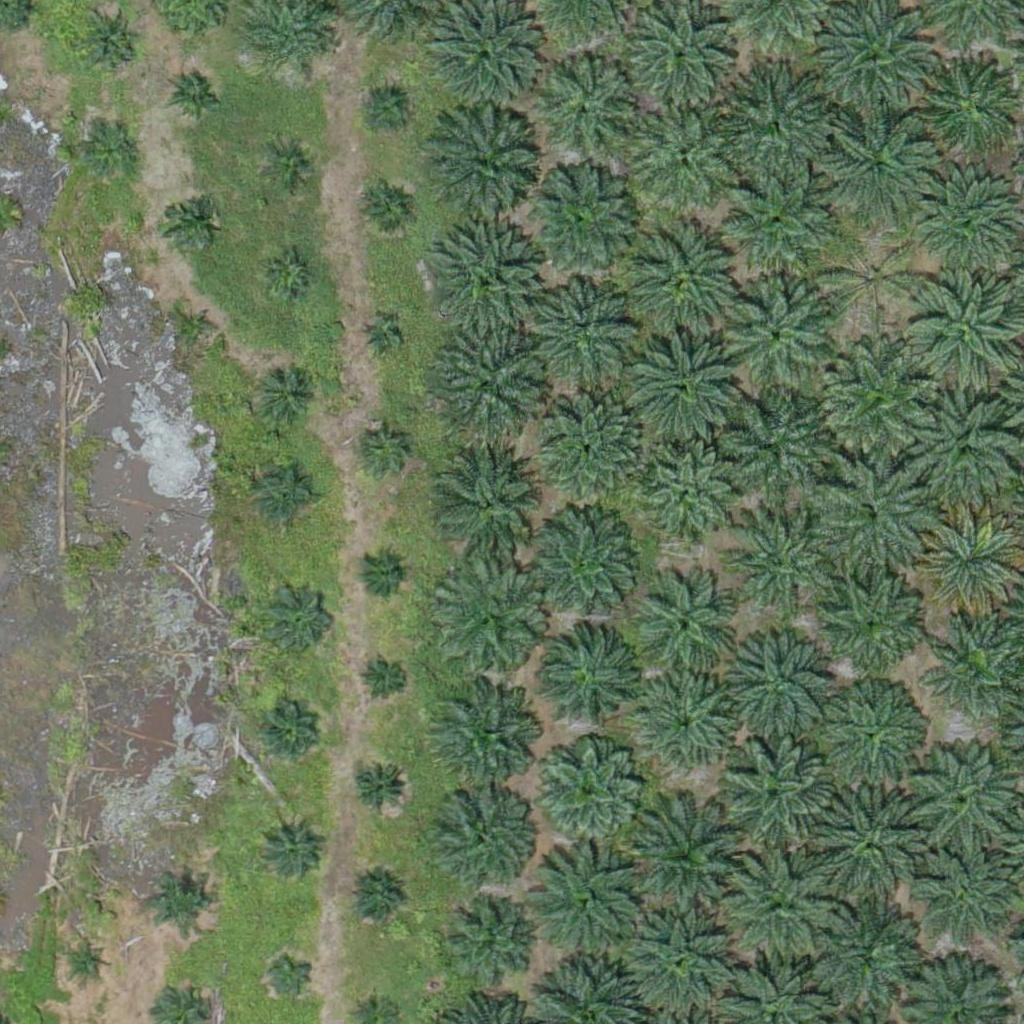Kelapa_Sawit: (628, 796, 753, 922), (623, 904, 736, 1018), (533, 849, 646, 963), (531, 734, 644, 848), (435, 566, 548, 680), (814, 789, 927, 902), (800, 890, 913, 1003), (432, 225, 545, 338), (433, 327, 546, 440), (433, 442, 546, 555), (629, 97, 742, 210), (716, 390, 829, 503), (724, 282, 837, 395), (720, 165, 833, 278), (714, 67, 827, 180), (820, 343, 933, 456), (816, 461, 929, 574), (812, 566, 925, 679), (525, 511, 638, 624), (428, 685, 540, 799), (725, 848, 837, 961), (430, 2, 542, 115), (430, 114, 542, 227), (527, 163, 639, 276), (534, 48, 646, 161), (632, 221, 744, 334), (628, 328, 740, 441), (822, 108, 934, 221), (907, 392, 1019, 505), (908, 270, 1020, 383), (724, 506, 836, 619), (720, 738, 832, 851), (823, 230, 923, 331), (543, 394, 643, 495), (539, 280, 639, 381), (640, 448, 740, 549), (822, 686, 922, 787), (729, 631, 829, 732), (637, 580, 737, 681), (434, 783, 534, 884), (918, 57, 1018, 157), (638, 673, 738, 773), (542, 627, 642, 727), (444, 900, 532, 988), (932, 623, 1019, 712), (919, 855, 1006, 943), (262, 579, 337, 654), (79, 12, 142, 75), (149, 867, 212, 930), (258, 706, 321, 769), (348, 756, 411, 819), (258, 366, 320, 429), (257, 463, 319, 526), (259, 817, 321, 880), (345, 868, 407, 931), (167, 64, 229, 127), (360, 423, 410, 474), (266, 947, 316, 998), (356, 547, 406, 598), (86, 131, 136, 181), (162, 195, 212, 245), (264, 251, 314, 301), (265, 142, 315, 192), (360, 655, 410, 705), (362, 83, 412, 133), (363, 186, 413, 236), (69, 943, 107, 981), (179, 309, 217, 347), (362, 318, 400, 356)
